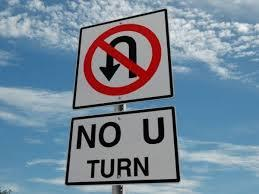no_u_turn: (82, 23, 160, 95)
